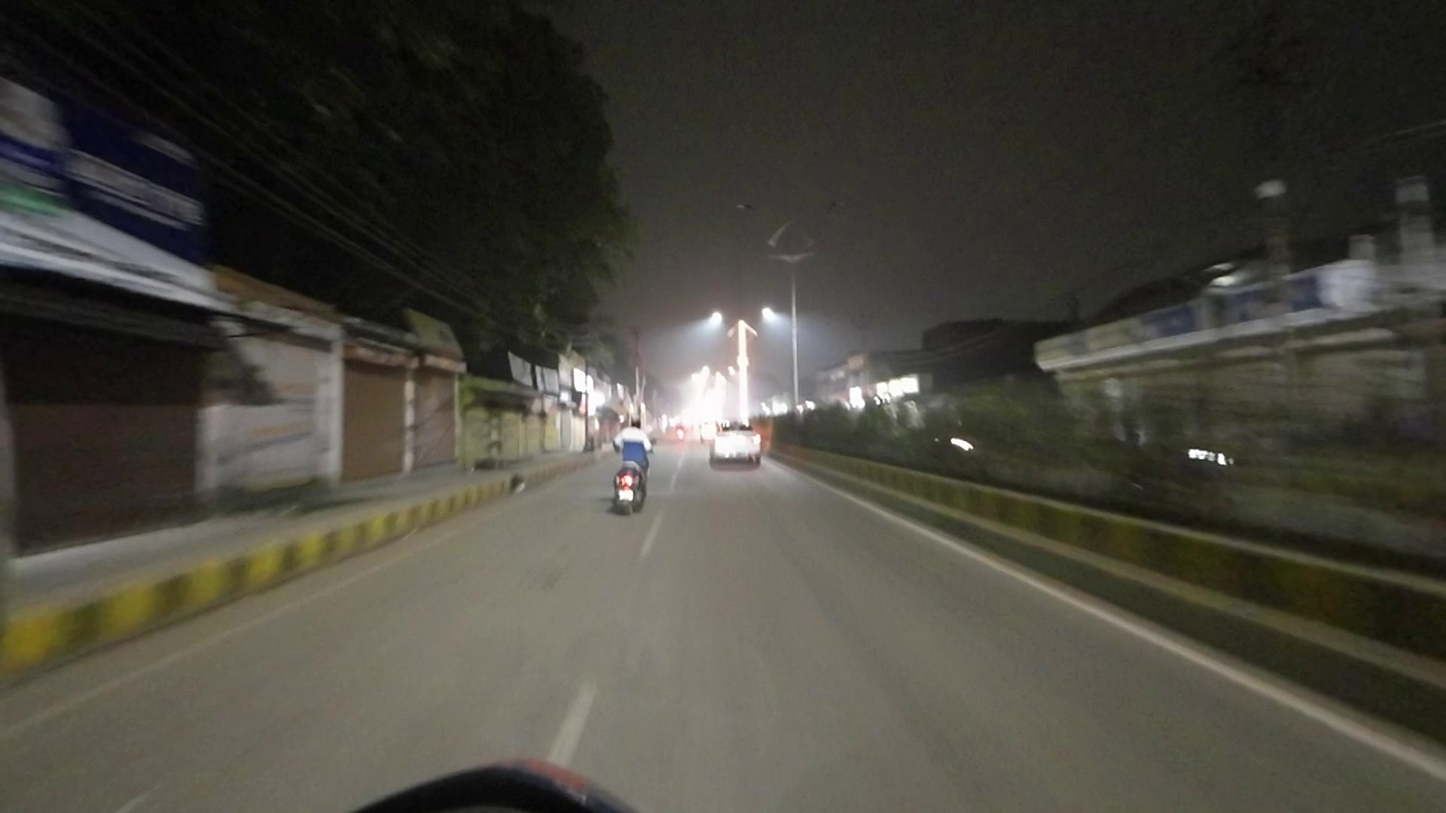streetlight: (733, 199, 783, 220), (797, 197, 849, 214)
